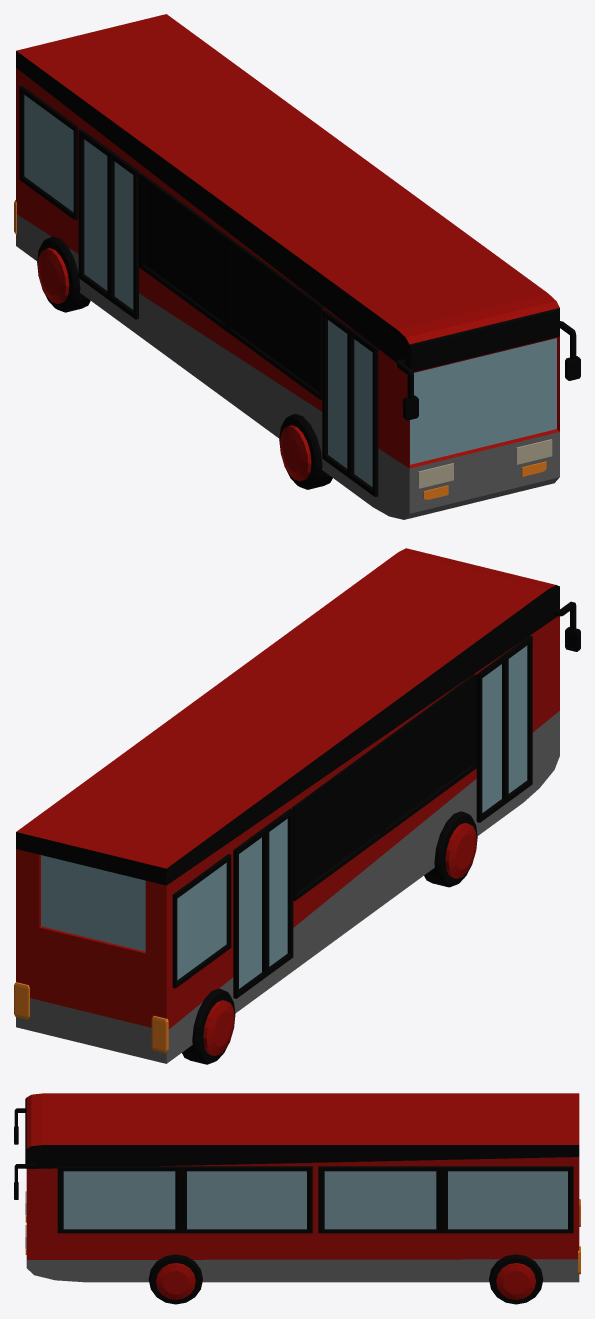
File: Bus.fbx
3 renders of one model, top to bottom at view 1: azimuth 30°, elevation 25°; view 2: azimuth 150°, elevation 25°; view 3: azimuth 270°, elevation 25°, orthographic. The views are drawn at different scales.
Parts seen in each view (by area): view 1: Bus; view 2: Bus; view 3: Bus.
Part boxes in pixels (bbox=[...]): Bus: bbox=[14, 14, 580, 519]; Bus: bbox=[14, 548, 580, 1064]; Bus: bbox=[14, 1093, 580, 1304].
Bounding box in the file's own units: 291 × 358 × 1161.
